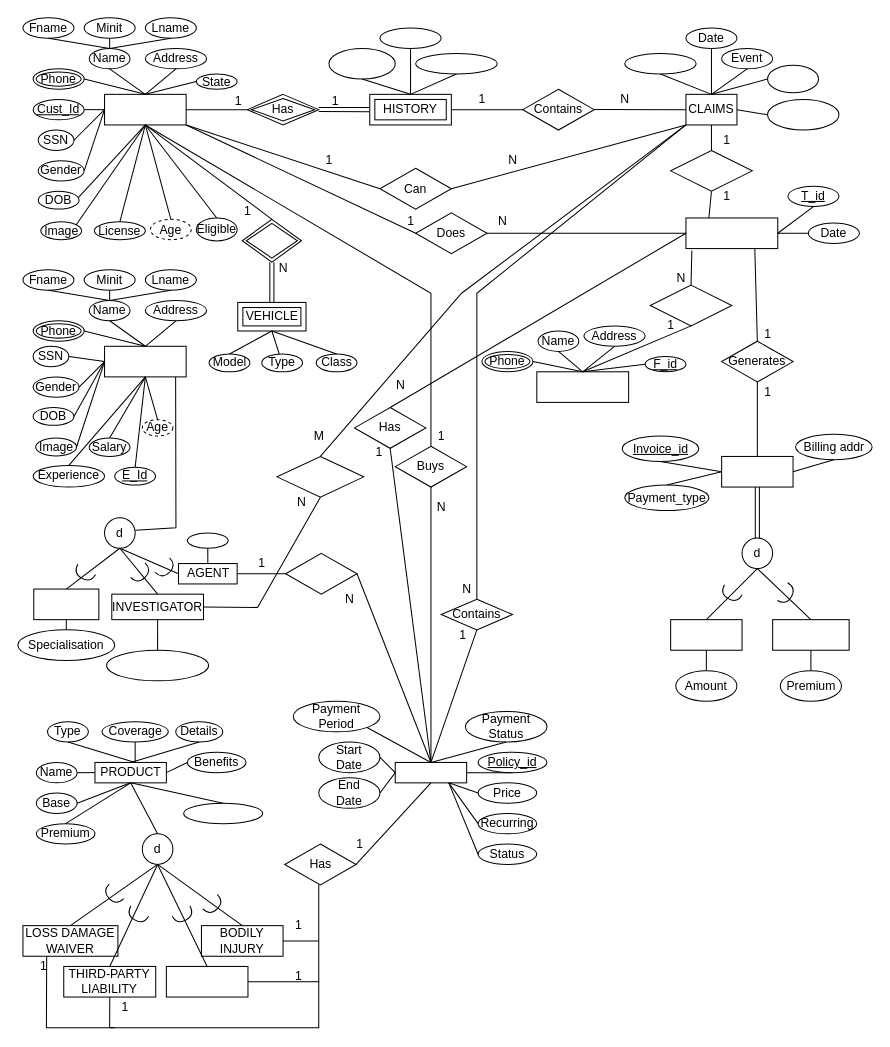
Image size: 890x1047. Some labels were removed from this diagram. The shapes that lost their labels are listed below. From the top down, each one's box as (x1, y1, x2, y2) in pixels, then its label:
(379, 27, 441, 48): Premiums
(328, 47, 395, 79): Claimed Money
(415, 53, 497, 74): No. accidents
(624, 53, 696, 74): Claim_note
(767, 64, 819, 93): Claim_id
(104, 93, 186, 125): CUSTOMER
(767, 98, 839, 130): Proof image
(670, 149, 752, 191): Associate
(241, 218, 302, 262): Owns
(685, 217, 778, 249): TRANSACTION
(649, 284, 732, 326): Contacts
(104, 345, 186, 377): EMPLOYEE
(536, 371, 629, 402): FINANCE INST.
(276, 455, 364, 497): Investigates
(721, 455, 793, 487): INVOICE
(186, 532, 228, 548): Deals
(285, 552, 357, 594): Sells
(33, 588, 99, 620): DATA SCIENTIST
(670, 619, 742, 650): CLAIMED
(772, 619, 849, 650): PURCHASED
(106, 649, 209, 681): Cases Investigated
(394, 761, 467, 783): POLICY
(183, 802, 263, 824): Product_id
(165, 965, 248, 997): PROPERTY DAMAGE
